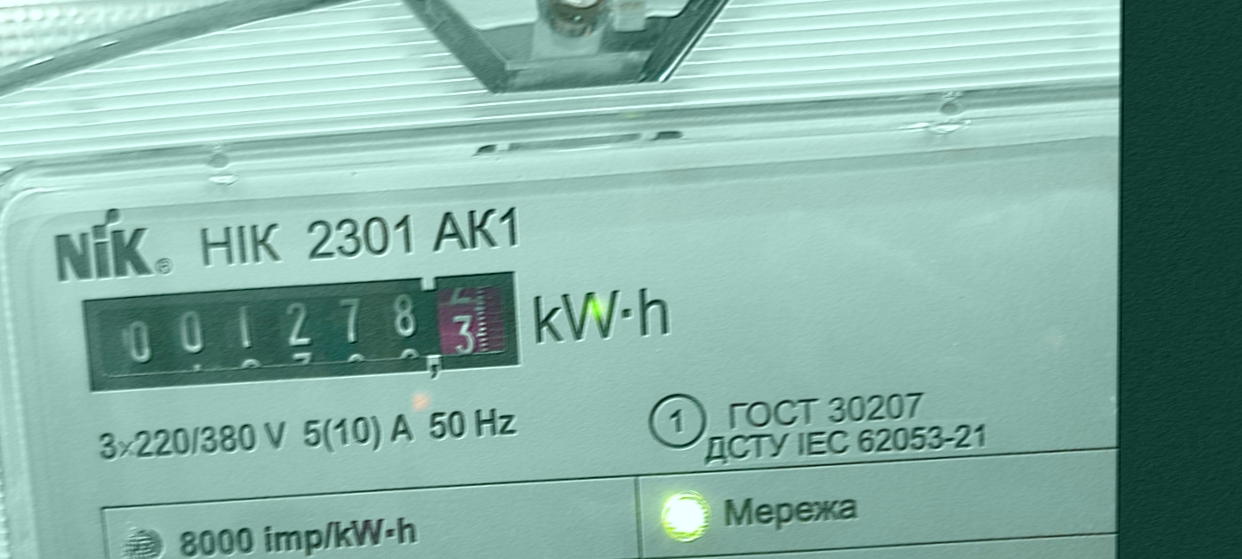0: (126, 316, 153, 364), (177, 308, 204, 355)
1: (235, 301, 254, 348)
2: (285, 300, 311, 347), (448, 285, 472, 304)
3: (450, 312, 477, 356)
7: (337, 296, 360, 343)
8: (392, 292, 417, 337)
screen: (67, 255, 537, 407)
